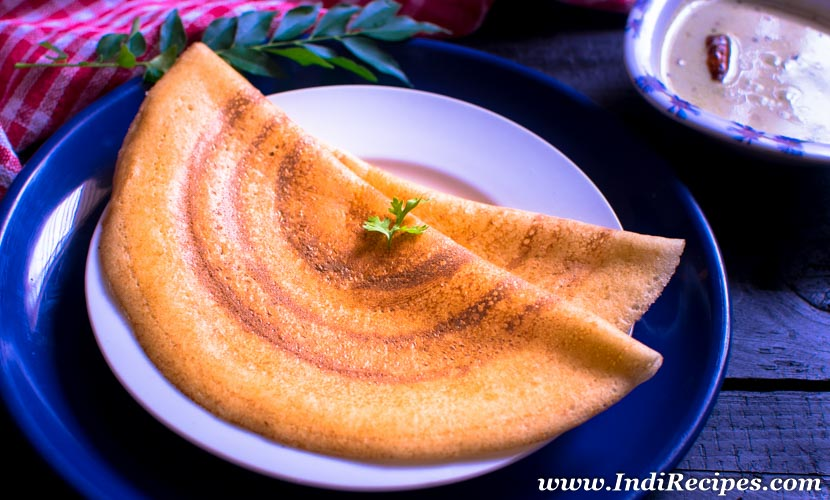dosa: (84, 40, 687, 465)
